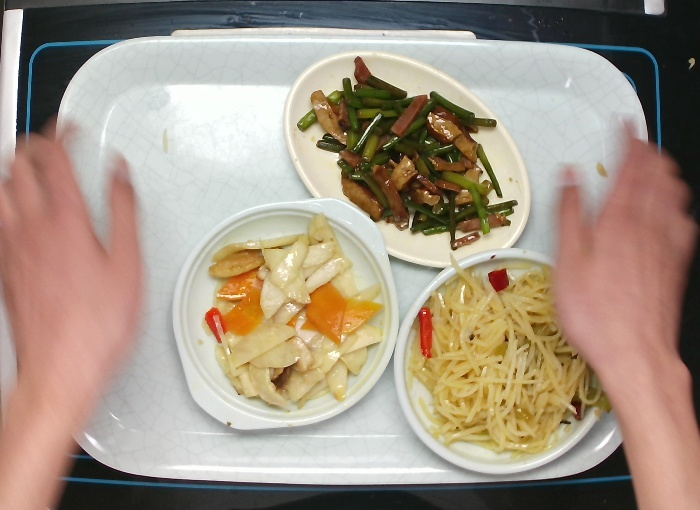JYsf-Shuang_Er_Pan: (166, 193, 404, 434)
JYsf-Tuo_Yuan_Wan: (278, 46, 536, 275)
JYsf-Xiao_Yuan_Pan: (388, 243, 627, 478)
